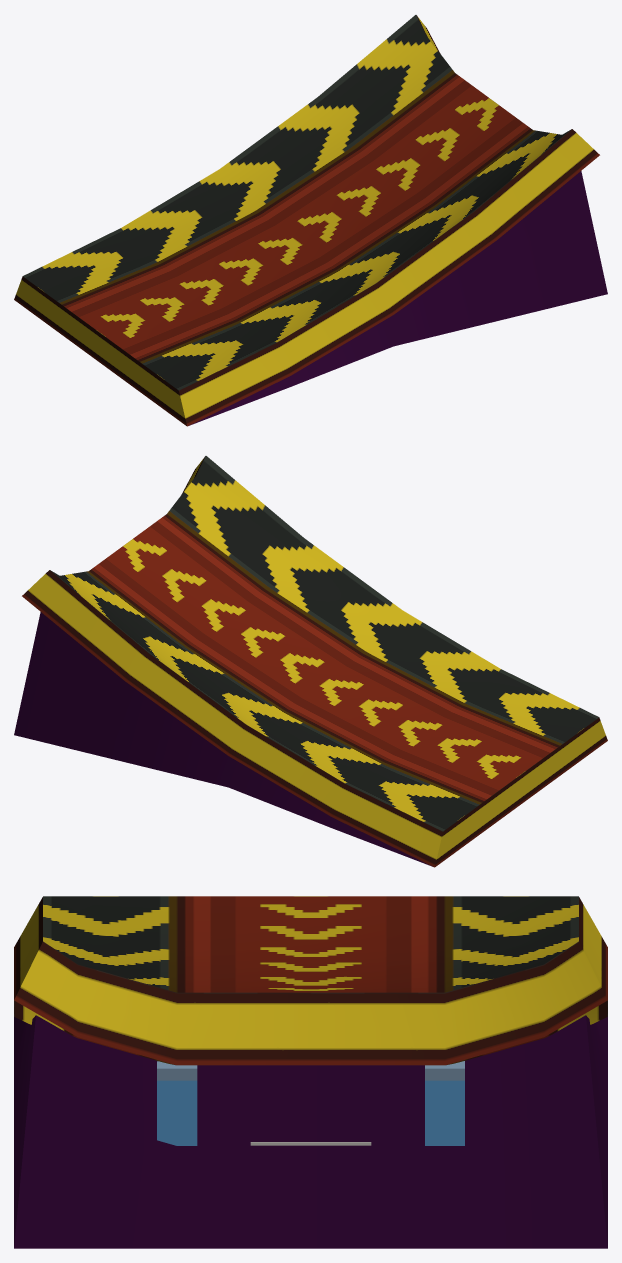
File: Estakada_Jump_2_003 (1).FBX
3 views of the same model, one above another, from view 1: azimuth 30°, elevation 25°; view 2: azimuth 150°, elevation 25°; view 3: azimuth 270°, elevation 25° (orthographic). The views are drawn at different scales.
Visible parts, largest first — view 1: Estakada_Jump_2_003, Estakada_Jump_2_003_Calider; view 2: Estakada_Jump_2_003, Estakada_Jump_2_003_Calider; view 3: Estakada_Jump_2_003_Calider, Estakada_Jump_2_003, Estakada_Jump_Vox_2_003.
Boxes of the visible parts, x1,y1,x2,y2 form: Estakada_Jump_2_003: (14,15,599,426); Estakada_Jump_2_003_Calider: (189,171,607,425); Estakada_Jump_2_003: (22,456,607,867); Estakada_Jump_2_003_Calider: (14,612,432,866); Estakada_Jump_2_003_Calider: (14,1015,607,1248); Estakada_Jump_2_003: (14,896,607,1065); Estakada_Jump_Vox_2_003: (157,1061,464,1145).
Bounding box in the file's own units: 0.622 × 0.4434 × 0.2763.
